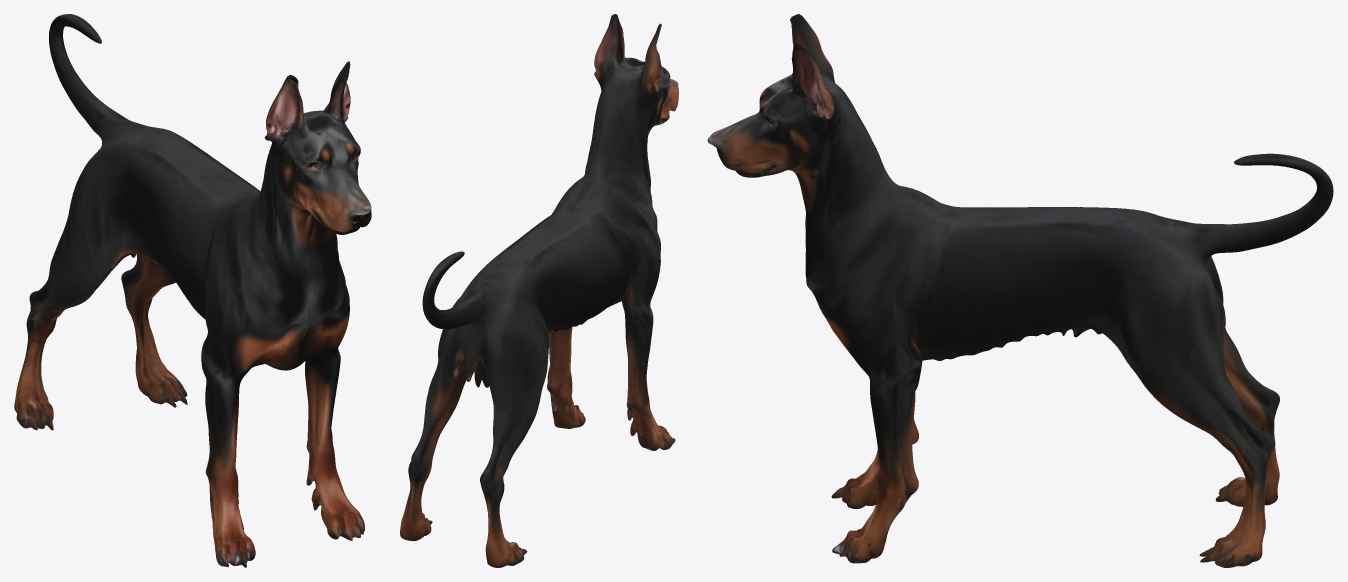
Rendered from Dog.glb.
The picture shows the model from 3 angles, left to right: view 1: azimuth 30°, elevation 25°; view 2: azimuth 150°, elevation 25°; view 3: azimuth 270°, elevation 25°; orthographic projection. The views are drawn at different scales.
Parts seen in each view (by area): view 1: Object_4, Object_5; view 2: Object_4, Object_5; view 3: Object_4, Object_5.
Part boxes in pixels (box(x1,y1,x2,y2)): Object_4: box(29, 14, 371, 535); Object_5: box(14, 29, 364, 567); Object_4: box(400, 14, 678, 550); Object_5: box(400, 114, 675, 567); Object_4: box(707, 14, 1333, 566); Object_5: box(831, 137, 1279, 567).
Bounding box in the file's own units: 0.5716 × 1.79 × 2.01.
Materials: 1 (1 with a texture image).
